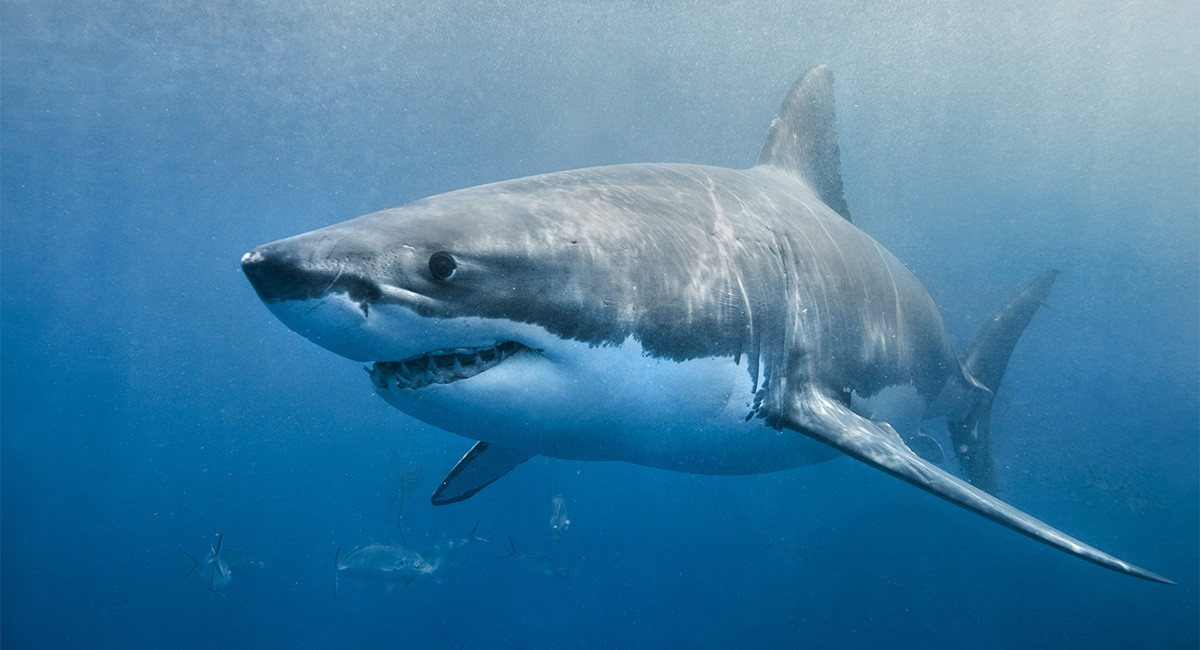shark: (218, 62, 1103, 558)
